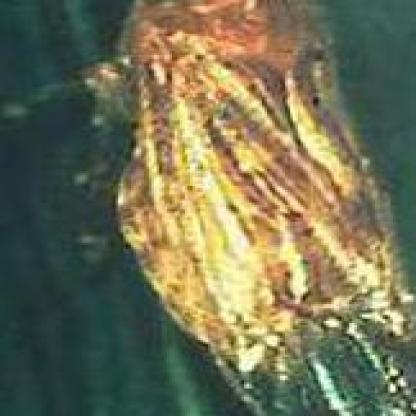brown-planthopper: (131, 1, 416, 415)
